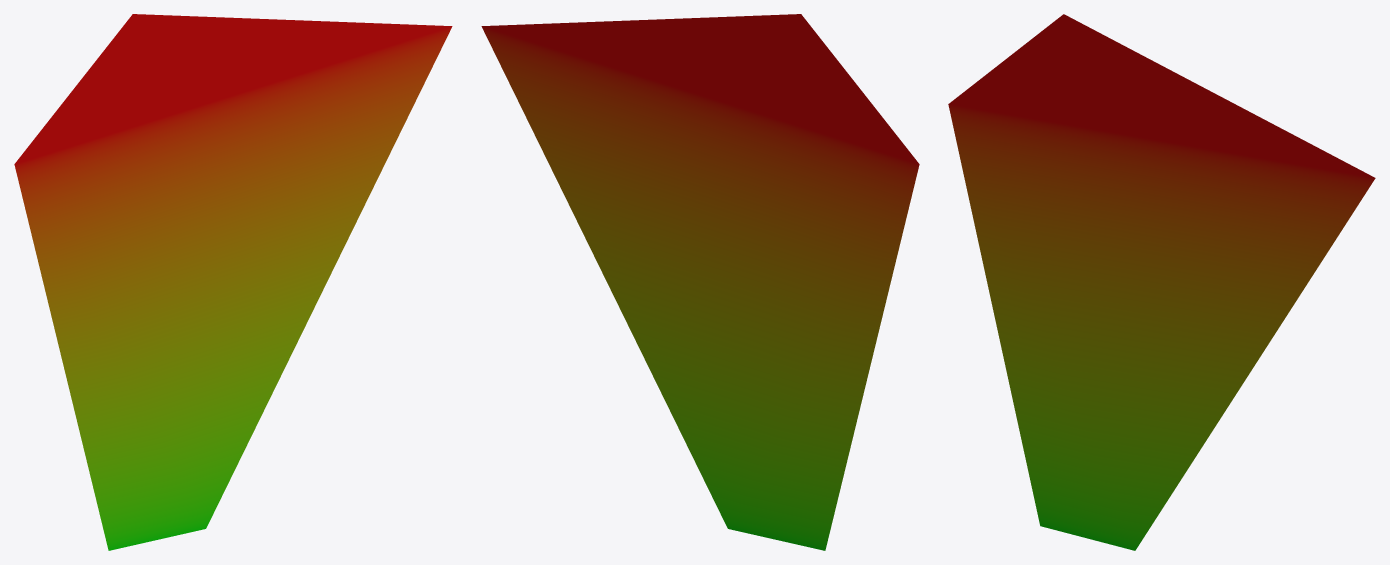
Rendered from Thatching Grass_LOD4_Var10_uddmcgbia.fbx.
3 views of the same model, side by side, from view 1: azimuth 30°, elevation 25°; view 2: azimuth 150°, elevation 25°; view 3: azimuth 330°, elevation 25° (orthographic). The views are drawn at different scales.
Visible parts, largest first — view 1: _4f25_Var10_LOD4; view 2: _4f25_Var10_LOD4; view 3: _4f25_Var10_LOD4.
Part boxes in pixels (left/top/right/bottom): _4f25_Var10_LOD4: left=14, top=14, right=452, bottom=550; _4f25_Var10_LOD4: left=481, top=14, right=919, bottom=550; _4f25_Var10_LOD4: left=948, top=14, right=1375, bottom=550.
Bounding box in the file's own units: 15.52 × 18.03 × 2.15e-06.
